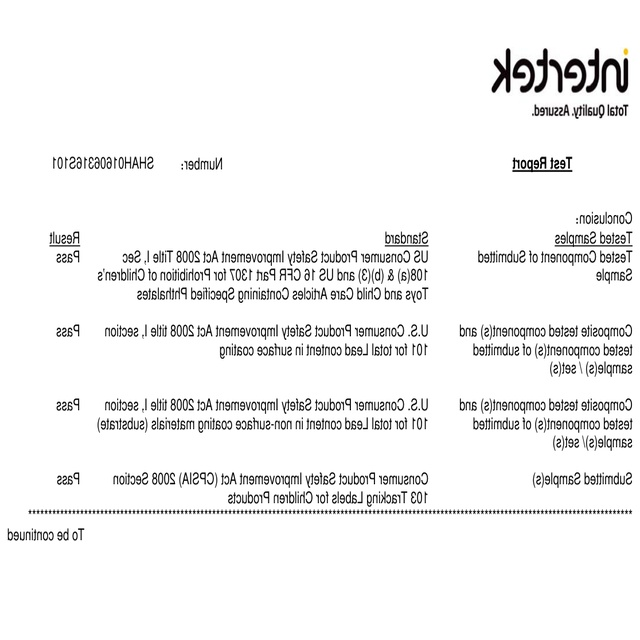intertek: (490, 46, 632, 100)
